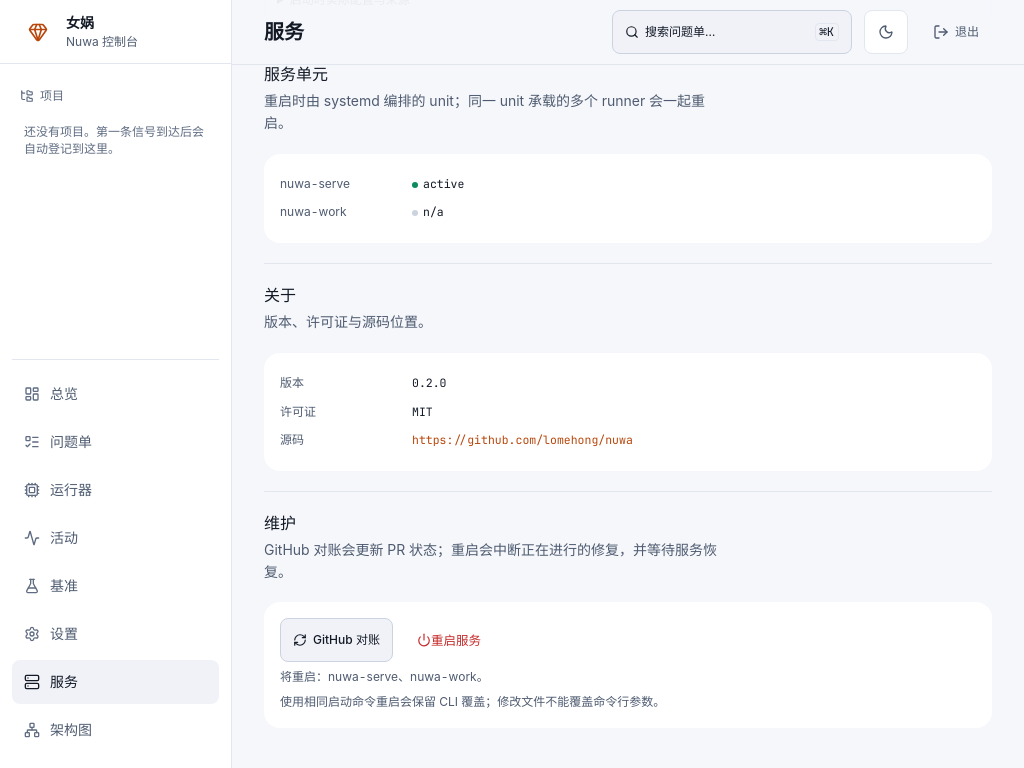
Test case: RestartDialog › shows a focusable restarting status after a 202 and reloads once recovery lands
(page scrolled)
Click the button "重启服务". click: [449, 640]
box: [405,624,493,656]
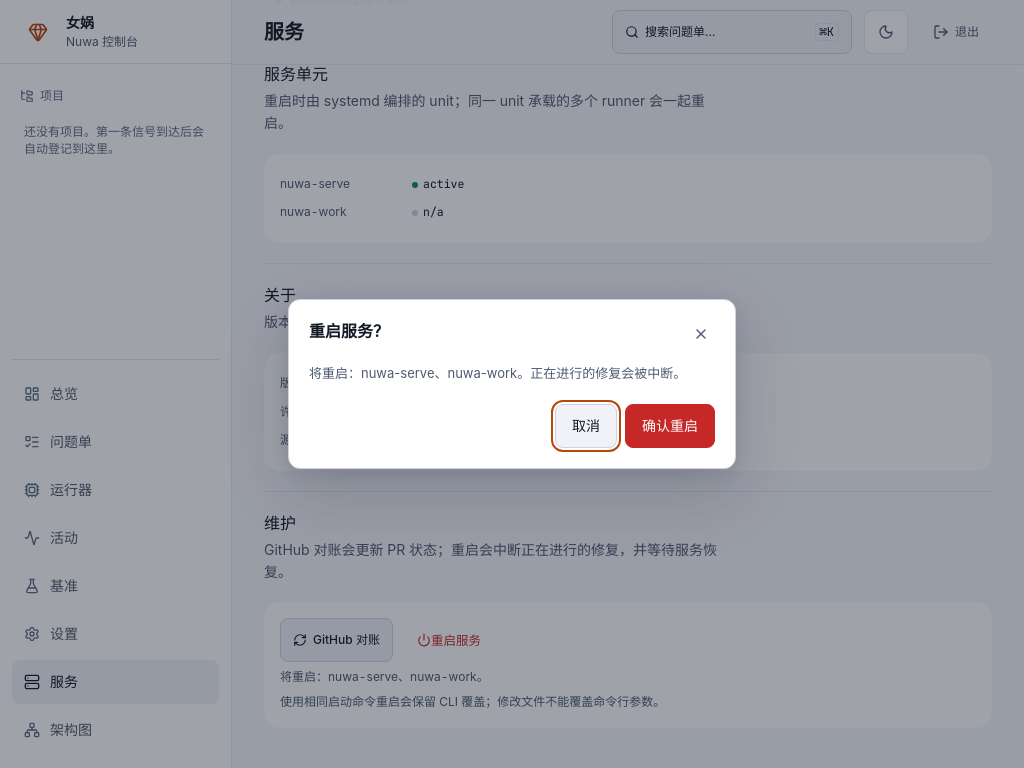
Click the button "确认重启". click: [670, 426]
box: [625,404,715,448]
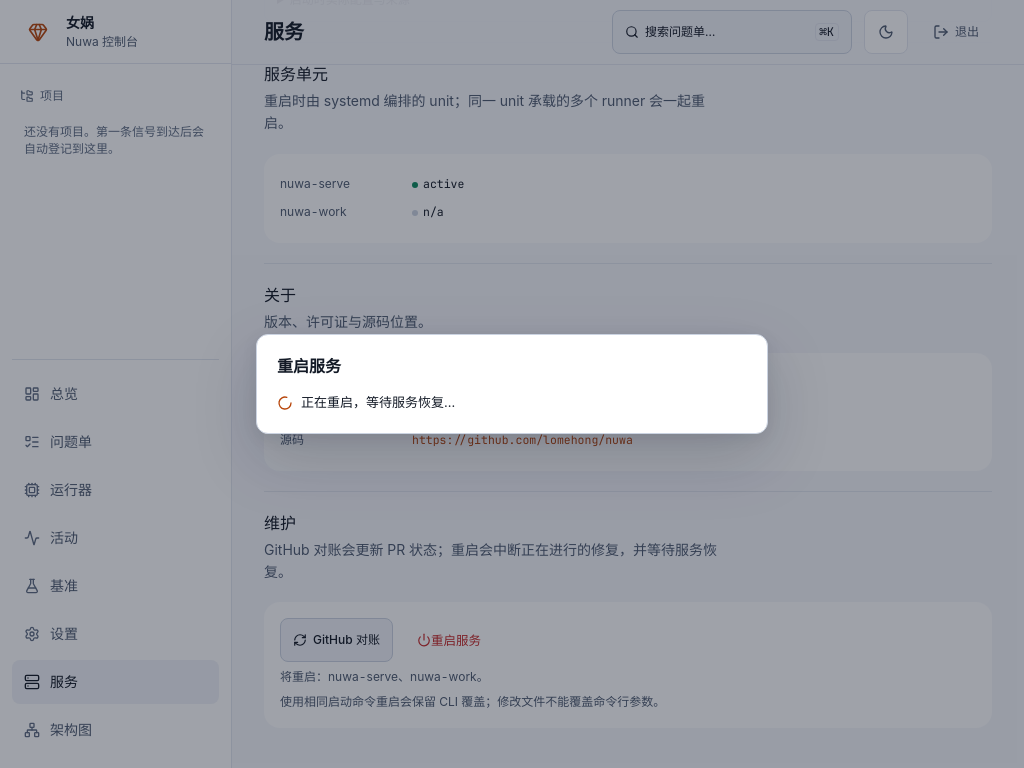
Expected: the message reads "正在重启，等待服务恢复…", [301,394,455,410]
